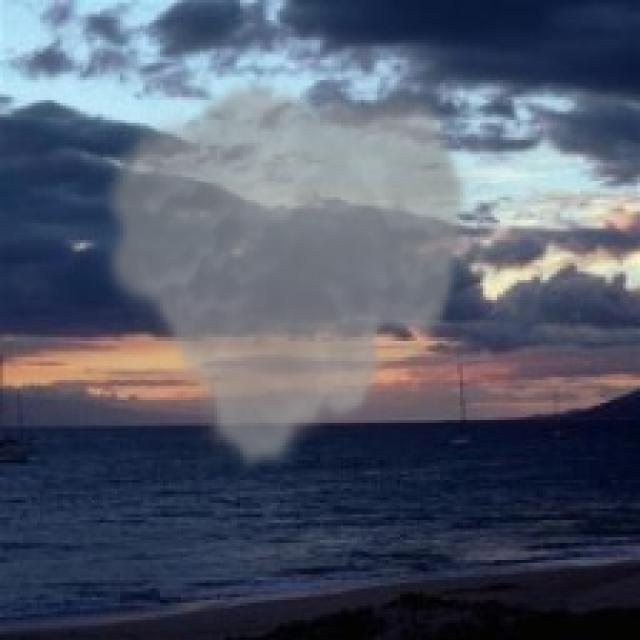Smoke: (94, 77, 474, 477)
